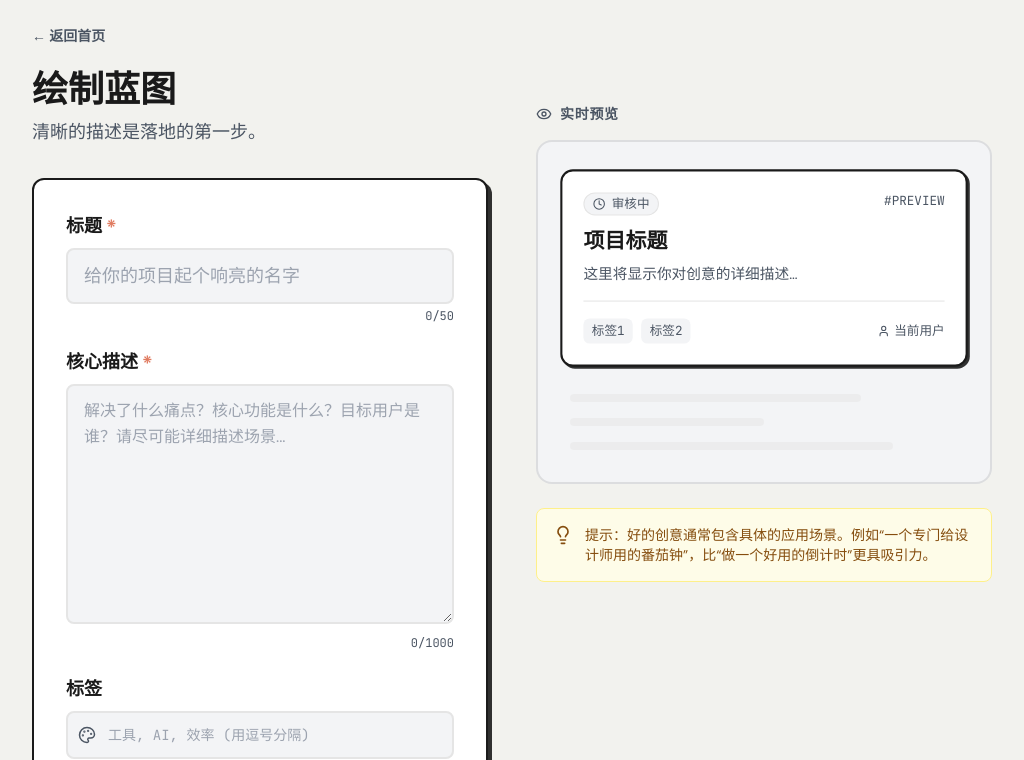
Scenario: Submit Page (3-step) › 填写完成后进入评估阶段，并可返回修改项目
The image size is (1024, 760).
Type "测试点子" into the field labelled "标题 *" at coordinates (260, 276), box [66, 248, 454, 304]
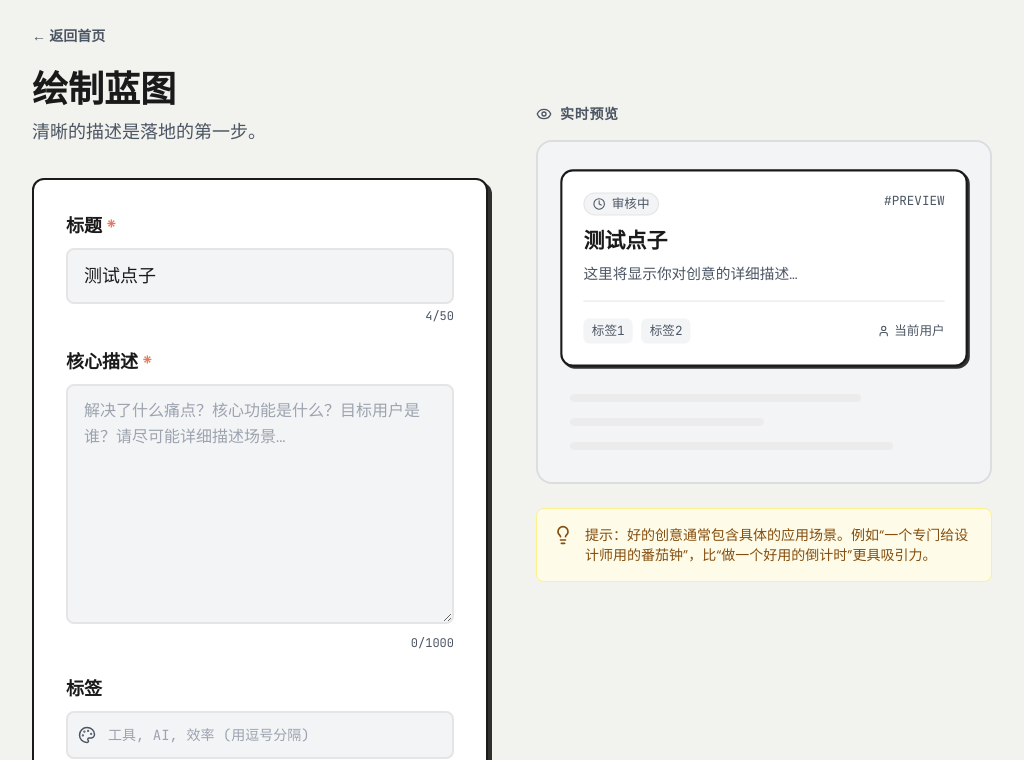
Type "这是一个测试描述" into the text box labelled "核心描述 *" at coordinates (260, 504), box [66, 384, 454, 624]
(page scrolled)
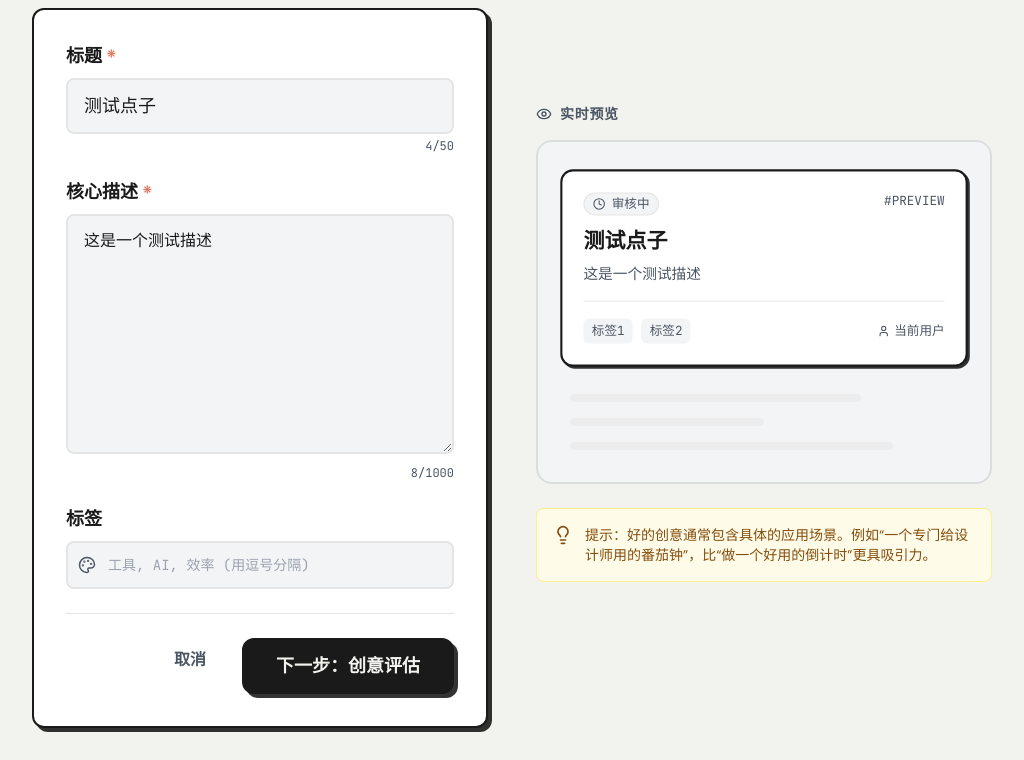
Click the button "下一步：创意评估" at coordinates (348, 666), box [242, 638, 454, 694]
(page scrolled)
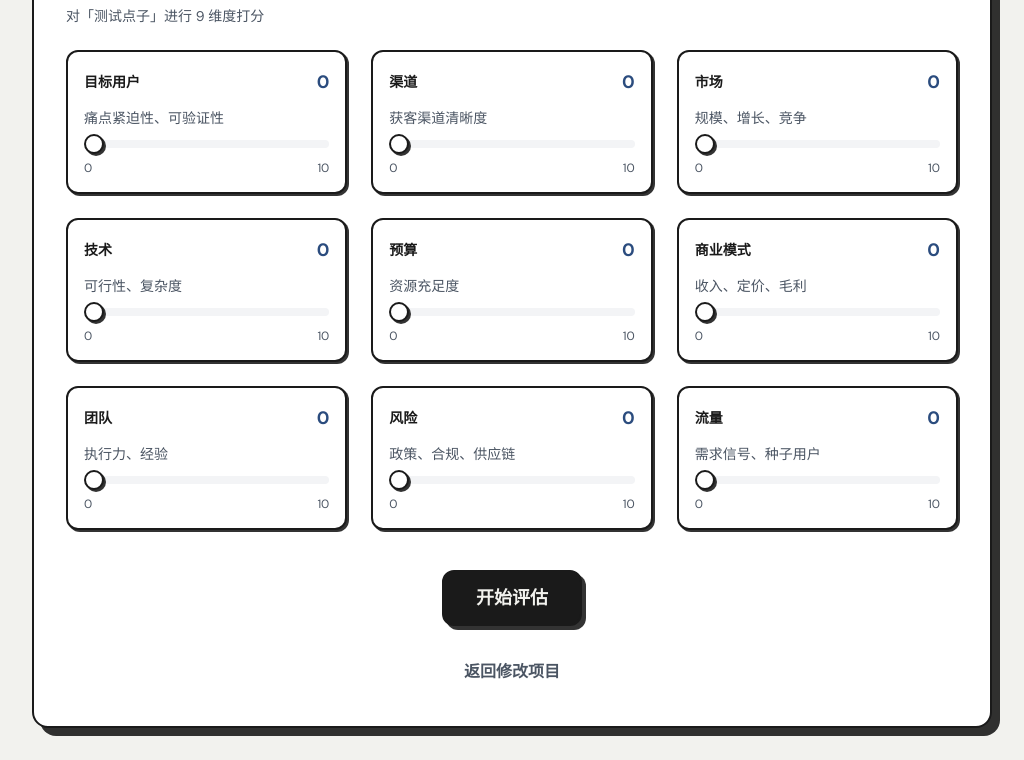
Click the button "返回修改项目" at coordinates (512, 672), box [444, 650, 580, 694]
(page scrolled)
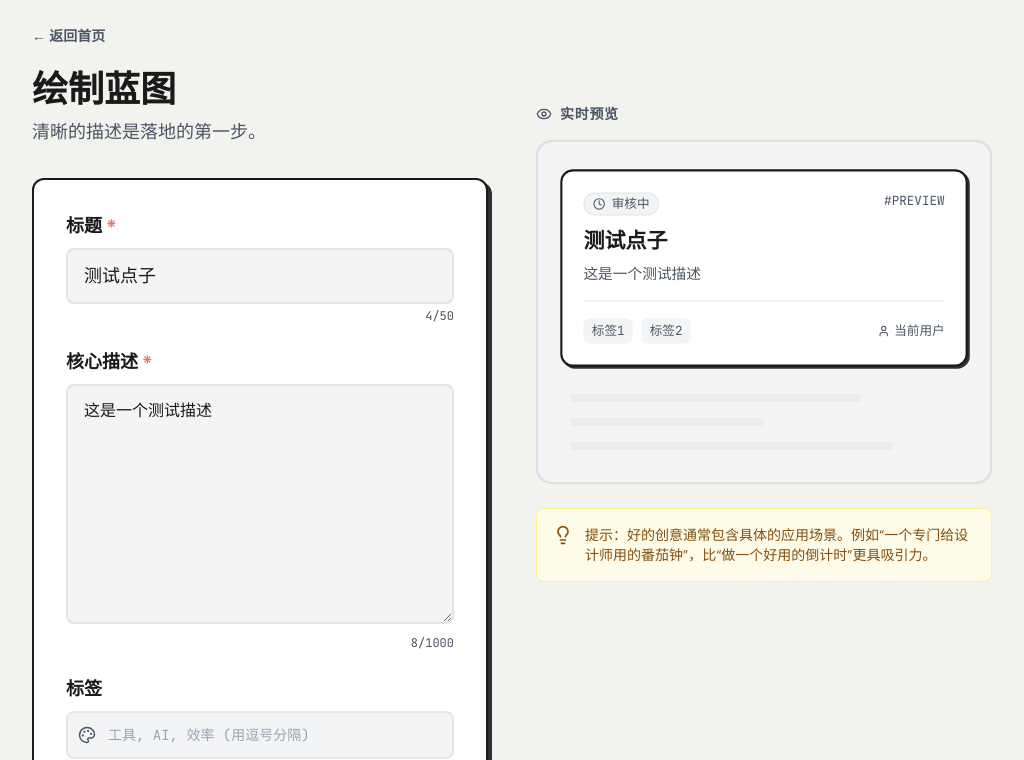
Check: the heading "绘制蓝图" is shown, box [32, 67, 176, 113]
